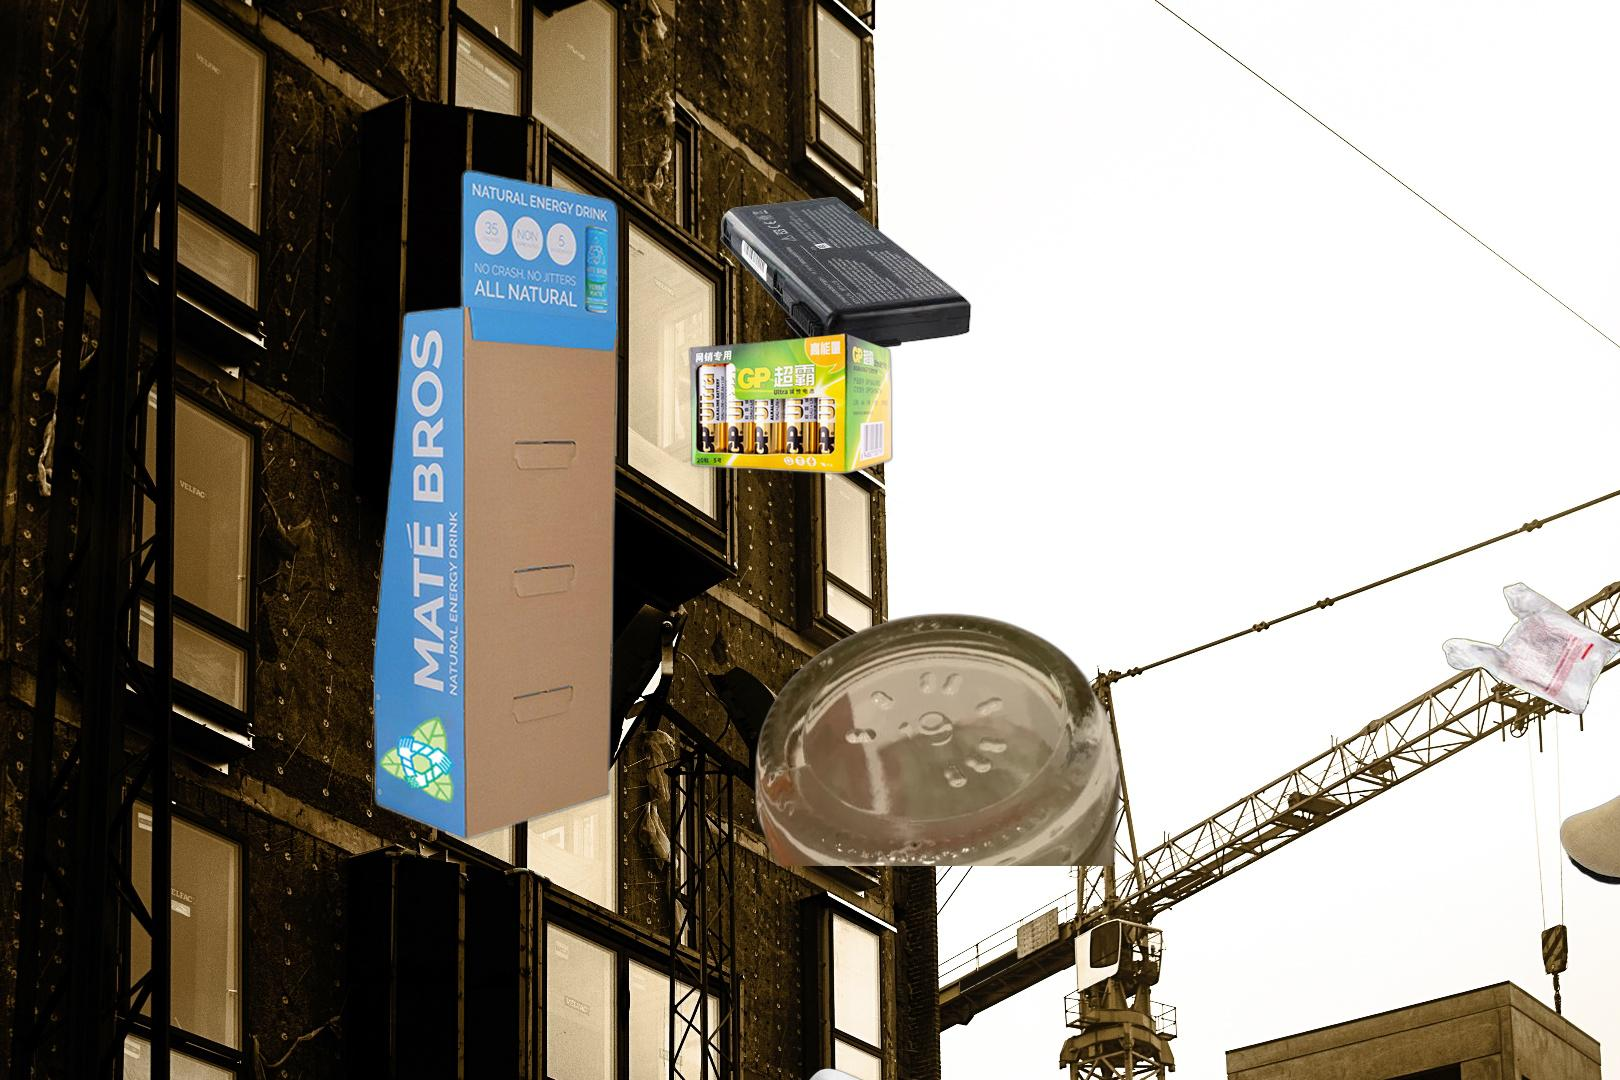battery: (718, 194, 974, 360), (686, 331, 896, 480)
glass: (750, 610, 1125, 865)
plastic-bag: (1440, 580, 1620, 718)
shoes: (1539, 711, 1620, 888)
trash: (768, 1066, 934, 1080)
trashbox-cardboard: (366, 163, 626, 845)
